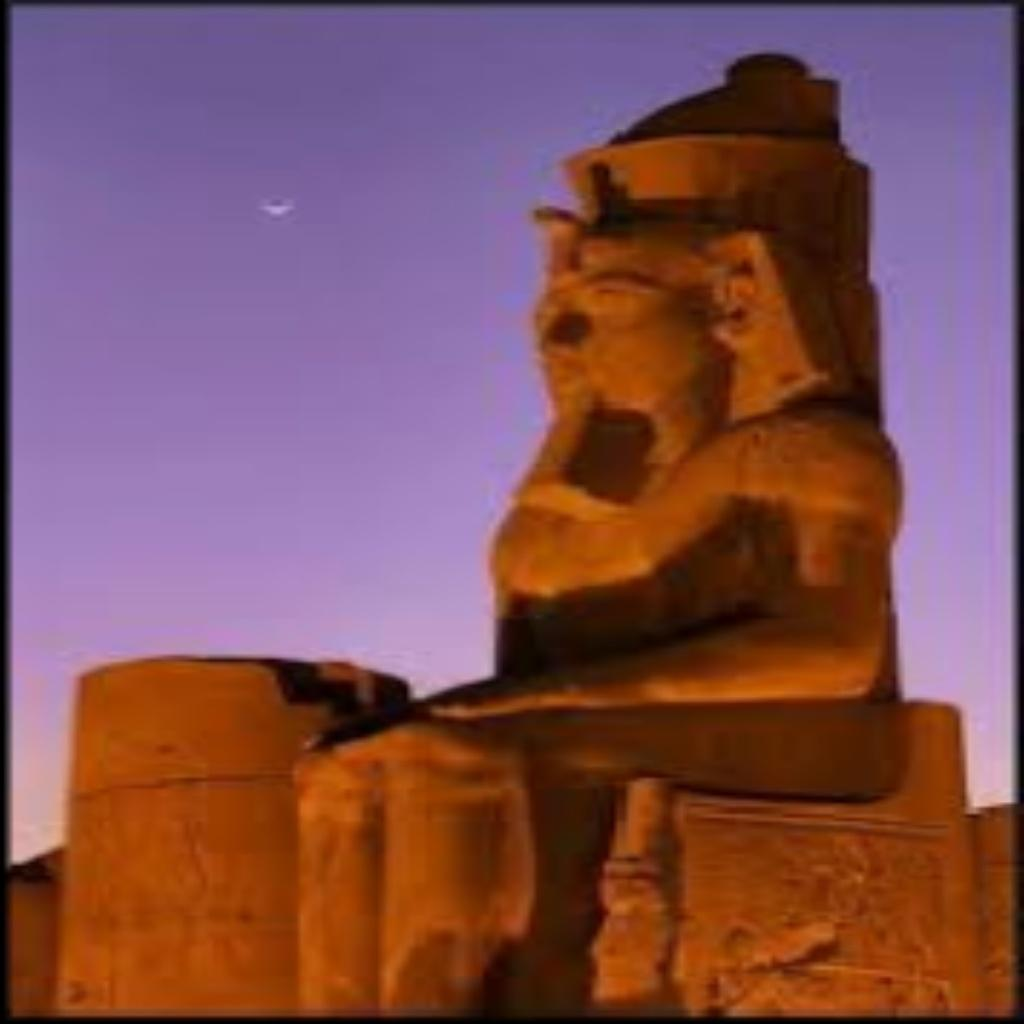Statue of King Ramses II Luxor Temple: (282, 50, 915, 1016)
